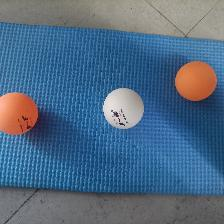WhiteBall: (102, 87, 143, 129)
YellowBall: (175, 60, 216, 100), (0, 92, 37, 134)
